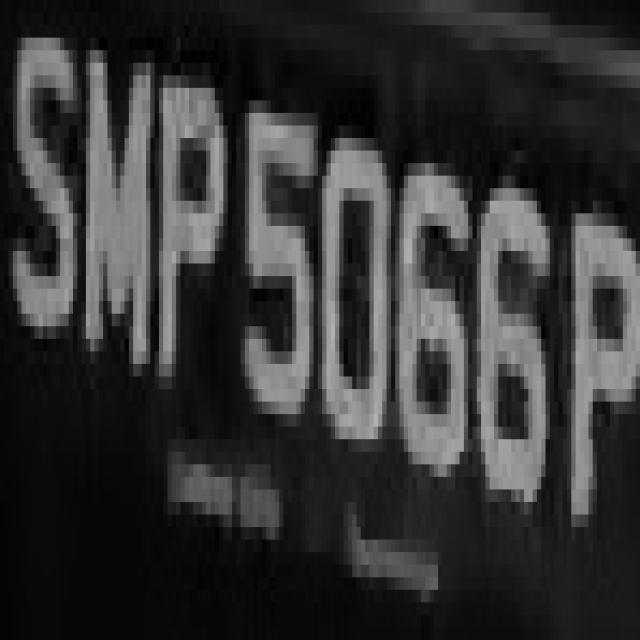0: (301, 75, 395, 452)
5: (236, 63, 314, 489)
6: (477, 150, 558, 564), (395, 126, 477, 490)
M: (73, 25, 155, 427)
P: (554, 163, 640, 577), (150, 25, 228, 414)
S: (4, 0, 77, 351)
